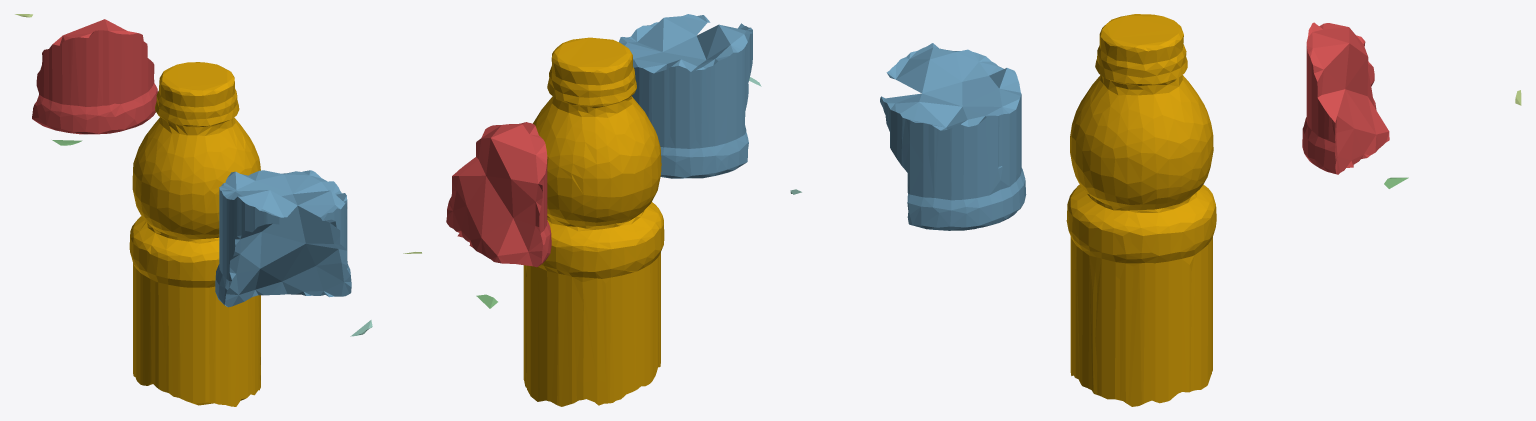
File: fractured_37_6pcs_transformed.glb
3 views of the same model, side by side, from view 1: azimuth 30°, elevation 25°; view 2: azimuth 150°, elevation 25°; view 3: azimuth 270°, elevation 25° (orthographic). The views are drawn at different scales.
Parts seen in each view (by area): view 1: piece_0.obj, piece_2.obj, piece_1.obj; view 2: piece_0.obj, piece_2.obj, piece_1.obj; view 3: piece_0.obj, piece_2.obj, piece_1.obj.
Boxes of the visible parts, box(x1,y1,x2,y2) form: piece_0.obj: box(129, 62, 260, 406); piece_2.obj: box(215, 170, 351, 307); piece_1.obj: box(32, 19, 157, 134); piece_0.obj: box(523, 37, 664, 406); piece_2.obj: box(619, 14, 752, 178); piece_1.obj: box(446, 122, 551, 267); piece_0.obj: box(1066, 14, 1216, 406); piece_2.obj: box(880, 43, 1026, 230); piece_1.obj: box(1302, 22, 1389, 174).
Size of the model in its own units: 0.3065 by 0.7801 by 1.48.
